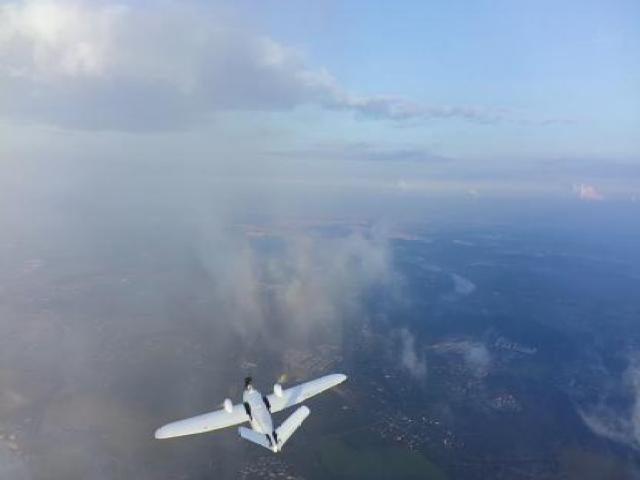uav: (152, 369, 346, 454)
